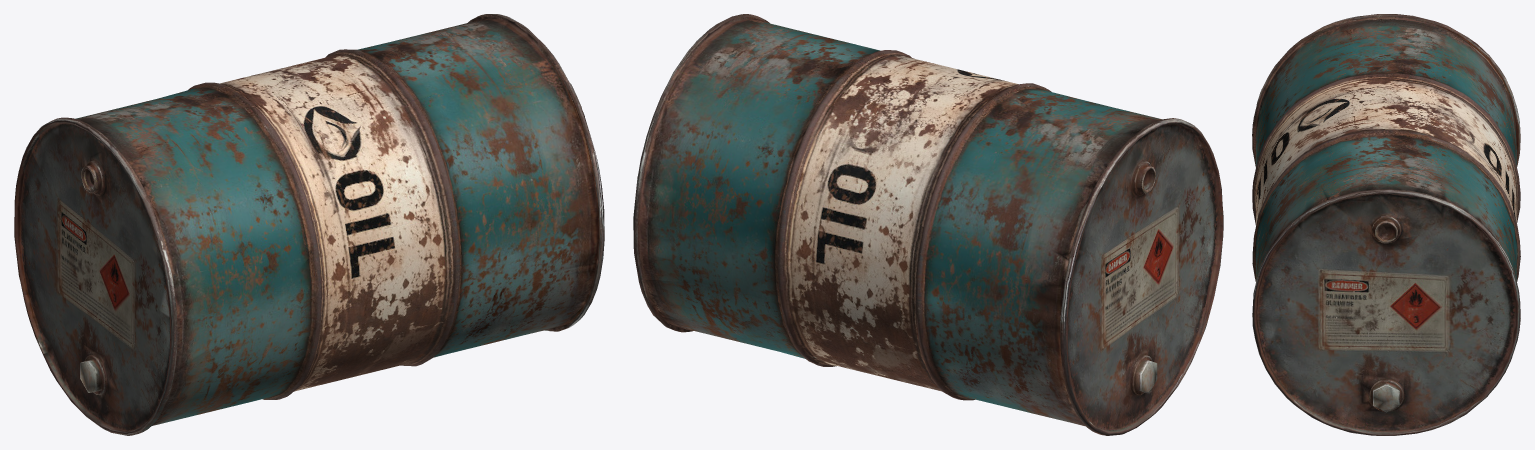
The model's file is oil_drum.glb.
3 renders of one model, left to right at view 1: azimuth 30°, elevation 25°; view 2: azimuth 150°, elevation 25°; view 3: azimuth 270°, elevation 25°, orthographic. The views are drawn at different scales.
Parts seen in each view (by area): view 1: oil_drum; view 2: oil_drum; view 3: oil_drum.
Boxes of the visible parts, x1,y1,x2,y2 form: oil_drum: (14,14,604,435); oil_drum: (633,14,1223,435); oil_drum: (1252,14,1520,435).
Bounding box in the file's own units: 190 × 120 × 119.
1 material, 1 textured.
